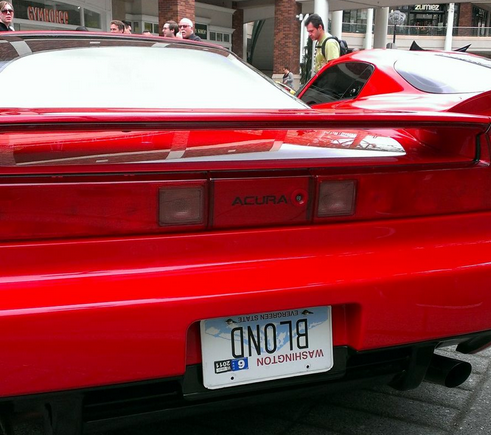license plate: (197, 308, 340, 393)
